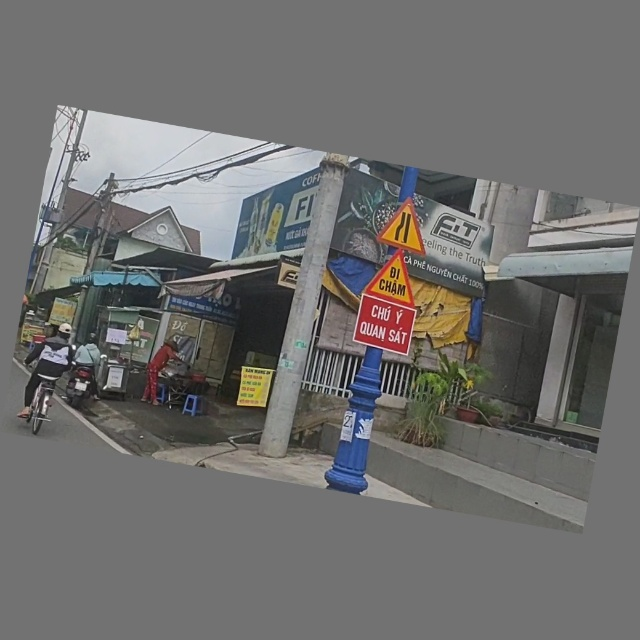W.203b: (377, 195, 435, 255)
W.245a: (365, 246, 425, 309)
